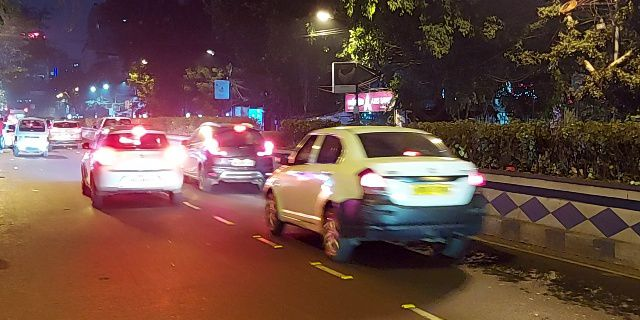Car: (279, 125, 493, 269), (77, 122, 188, 215)
